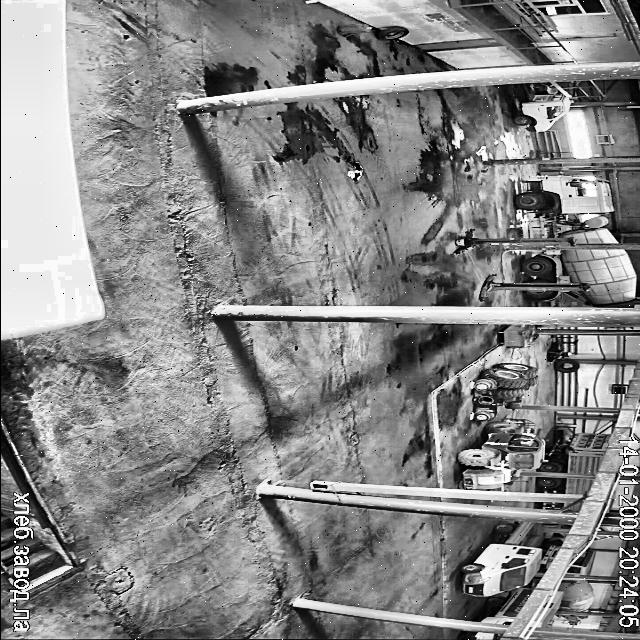class6: (458, 418, 544, 489), (474, 362, 537, 420)
class7: (516, 176, 616, 244), (522, 248, 636, 306), (460, 520, 541, 596), (539, 433, 611, 473), (514, 92, 571, 132), (483, 588, 532, 623), (557, 580, 594, 610), (538, 477, 592, 494), (538, 592, 562, 628), (567, 549, 595, 574), (543, 538, 562, 570), (543, 500, 579, 510), (464, 632, 500, 640), (480, 616, 511, 624), (564, 616, 581, 620)
truck: (479, 274, 588, 300), (455, 229, 574, 252)
